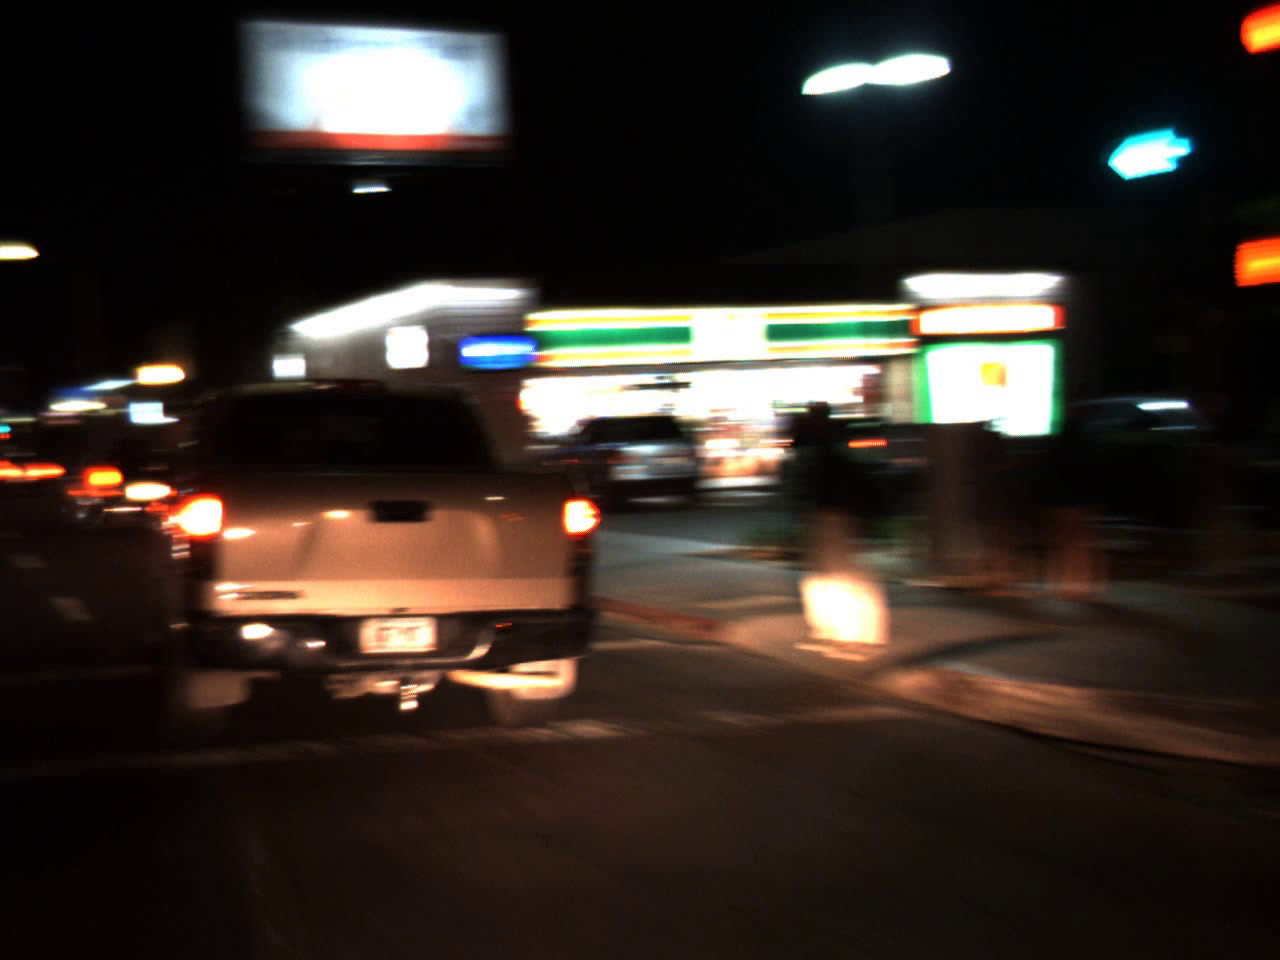go: (1063, 102, 1212, 183)
